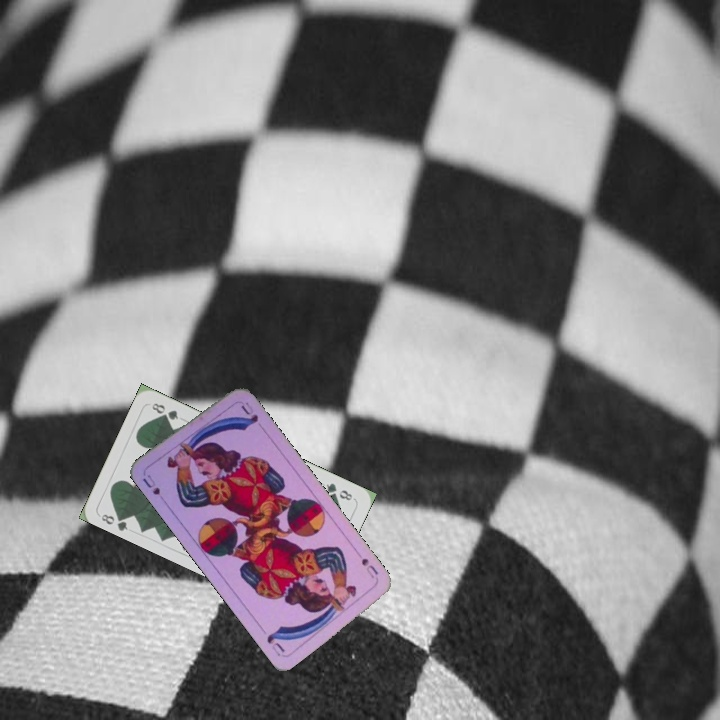G8: (322, 479, 355, 503), (97, 509, 130, 533)
SU: (357, 554, 381, 584), (139, 470, 163, 497)
